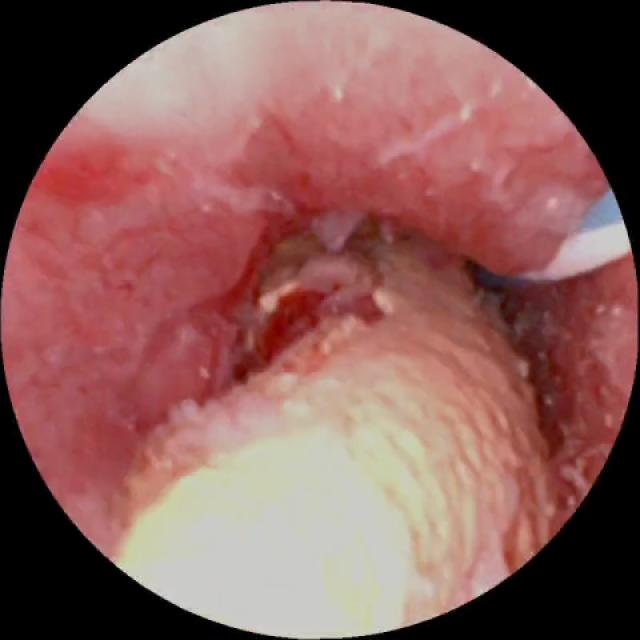stone: (119, 233, 553, 625)
tissue: (6, 30, 567, 529)
